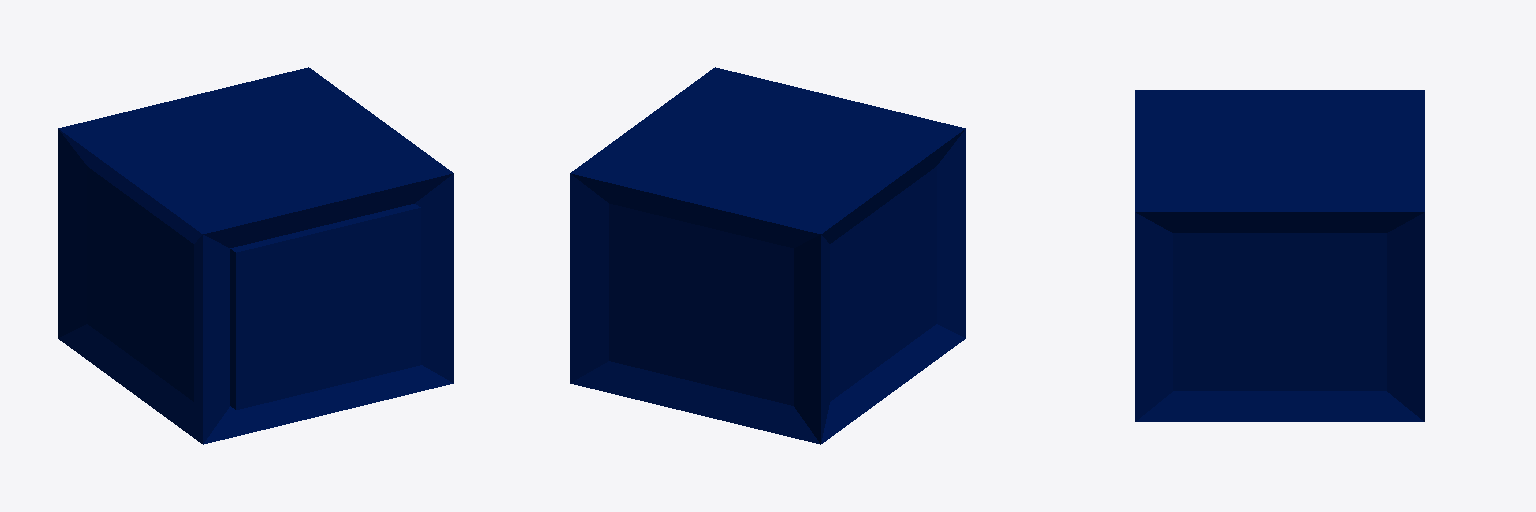
The model's file is Delayer.obj.
3 renders of one model, left to right at view 1: azimuth 30°, elevation 25°; view 2: azimuth 150°, elevation 25°; view 3: azimuth 270°, elevation 25°, orthographic.
Visible parts, largest first — view 1: Handle1; view 2: Handle1; view 3: Handle1.
Part boxes in pixels (left/top/right/bottom): Handle1: left=58, top=67, right=453, bottom=444; Handle1: left=570, top=67, right=965, bottom=444; Handle1: left=1135, top=90, right=1424, bottom=421.
Size of the model in its own units: 0.6 by 0.48 by 0.6.